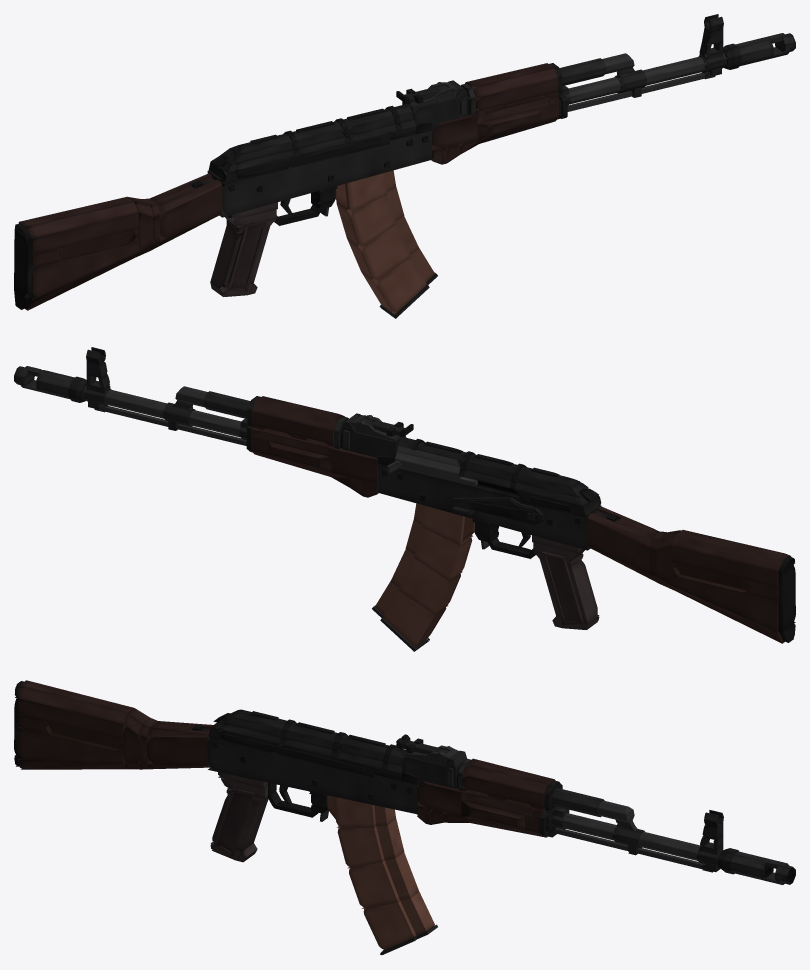
3 views of the same model, one above another, from view 1: azimuth 30°, elevation 25°; view 2: azimuth 150°, elevation 25°; view 3: azimuth 330°, elevation 25° (orthographic).
Visible parts, largest first — view 1: gunModel0, gunModel169, gunModel12, ammoModel7, ammoModel1, ammoModel9, gunModel168, gunModel1, gunModel26, gunModel65, gunModel152, gunModel18 (+17 smaller); view 2: gunModel0, gunModel169, gunModel12, ammoModel7, ammoModel1, ammoModel9, gunModel168, gunModel1, gunModel26, gunModel65, gunModel152, gunModel18 (+17 smaller); view 3: gunModel0, gunModel169, gunModel12, gunModel168, gunModel1, ammoModel7, ammoModel9, gunModel26, ammoModel1, gunModel65, gunModel18, gunModel24 (+23 smaller).
Boxes of the visible parts, x1=… form: gunModel0: x1=207, y1=130, x2=432, y2=217; gunModel169: x1=26, y1=241, x2=138, y2=299; gunModel12: x1=18, y1=197, x2=137, y2=238; ammoModel7: x1=347, y1=225, x2=410, y2=281; ammoModel1: x1=336, y1=195, x2=395, y2=248; ammoModel9: x1=362, y1=257, x2=427, y2=314; gunModel168: x1=25, y1=213, x2=138, y2=254; gunModel1: x1=160, y1=186, x2=222, y2=240; gunModel26: x1=465, y1=63, x2=557, y2=97; gunModel65: x1=230, y1=104, x2=412, y2=154; gunModel152: x1=210, y1=225, x2=270, y2=290; gunModel18: x1=432, y1=114, x2=477, y2=150; gunModel0: x1=377, y1=463, x2=599, y2=550; gunModel169: x1=671, y1=574, x2=778, y2=632; gunModel12: x1=672, y1=530, x2=791, y2=571; ammoModel7: x1=399, y1=558, x2=460, y2=614; ammoModel1: x1=414, y1=528, x2=472, y2=581; ammoModel9: x1=382, y1=590, x2=446, y2=647; gunModel168: x1=671, y1=546, x2=778, y2=587; gunModel1: x1=587, y1=519, x2=649, y2=573; gunModel26: x1=252, y1=396, x2=344, y2=430; gunModel65: x1=397, y1=437, x2=579, y2=487; gunModel152: x1=539, y1=559, x2=599, y2=623; gunModel18: x1=332, y1=448, x2=377, y2=483; gunModel0: x1=207, y1=737, x2=419, y2=814; gunModel169: x1=17, y1=729, x2=125, y2=763; gunModel12: x1=18, y1=680, x2=133, y2=723; gunModel168: x1=17, y1=700, x2=125, y2=739; gunModel1: x1=147, y1=737, x2=208, y2=765; ammoModel7: x1=349, y1=860, x2=399, y2=908; ammoModel9: x1=363, y1=901, x2=416, y2=950; gunModel26: x1=462, y1=758, x2=555, y2=794; ammoModel1: x1=337, y1=826, x2=384, y2=868; gunModel65: x1=230, y1=709, x2=406, y2=758; gunModel18: x1=417, y1=781, x2=463, y2=816; gunModel24: x1=462, y1=776, x2=545, y2=807.
Bounding box in the file's own units: 30.37 × 8.14 × 1.9.
